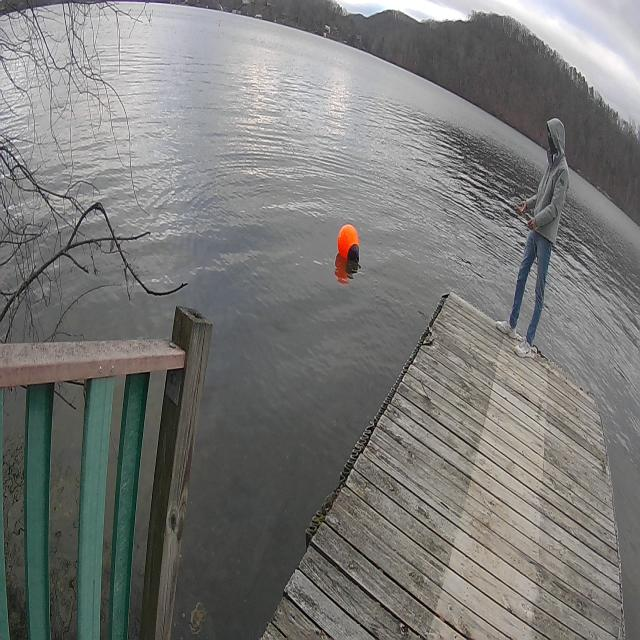Buoy: (333, 216, 362, 272)
